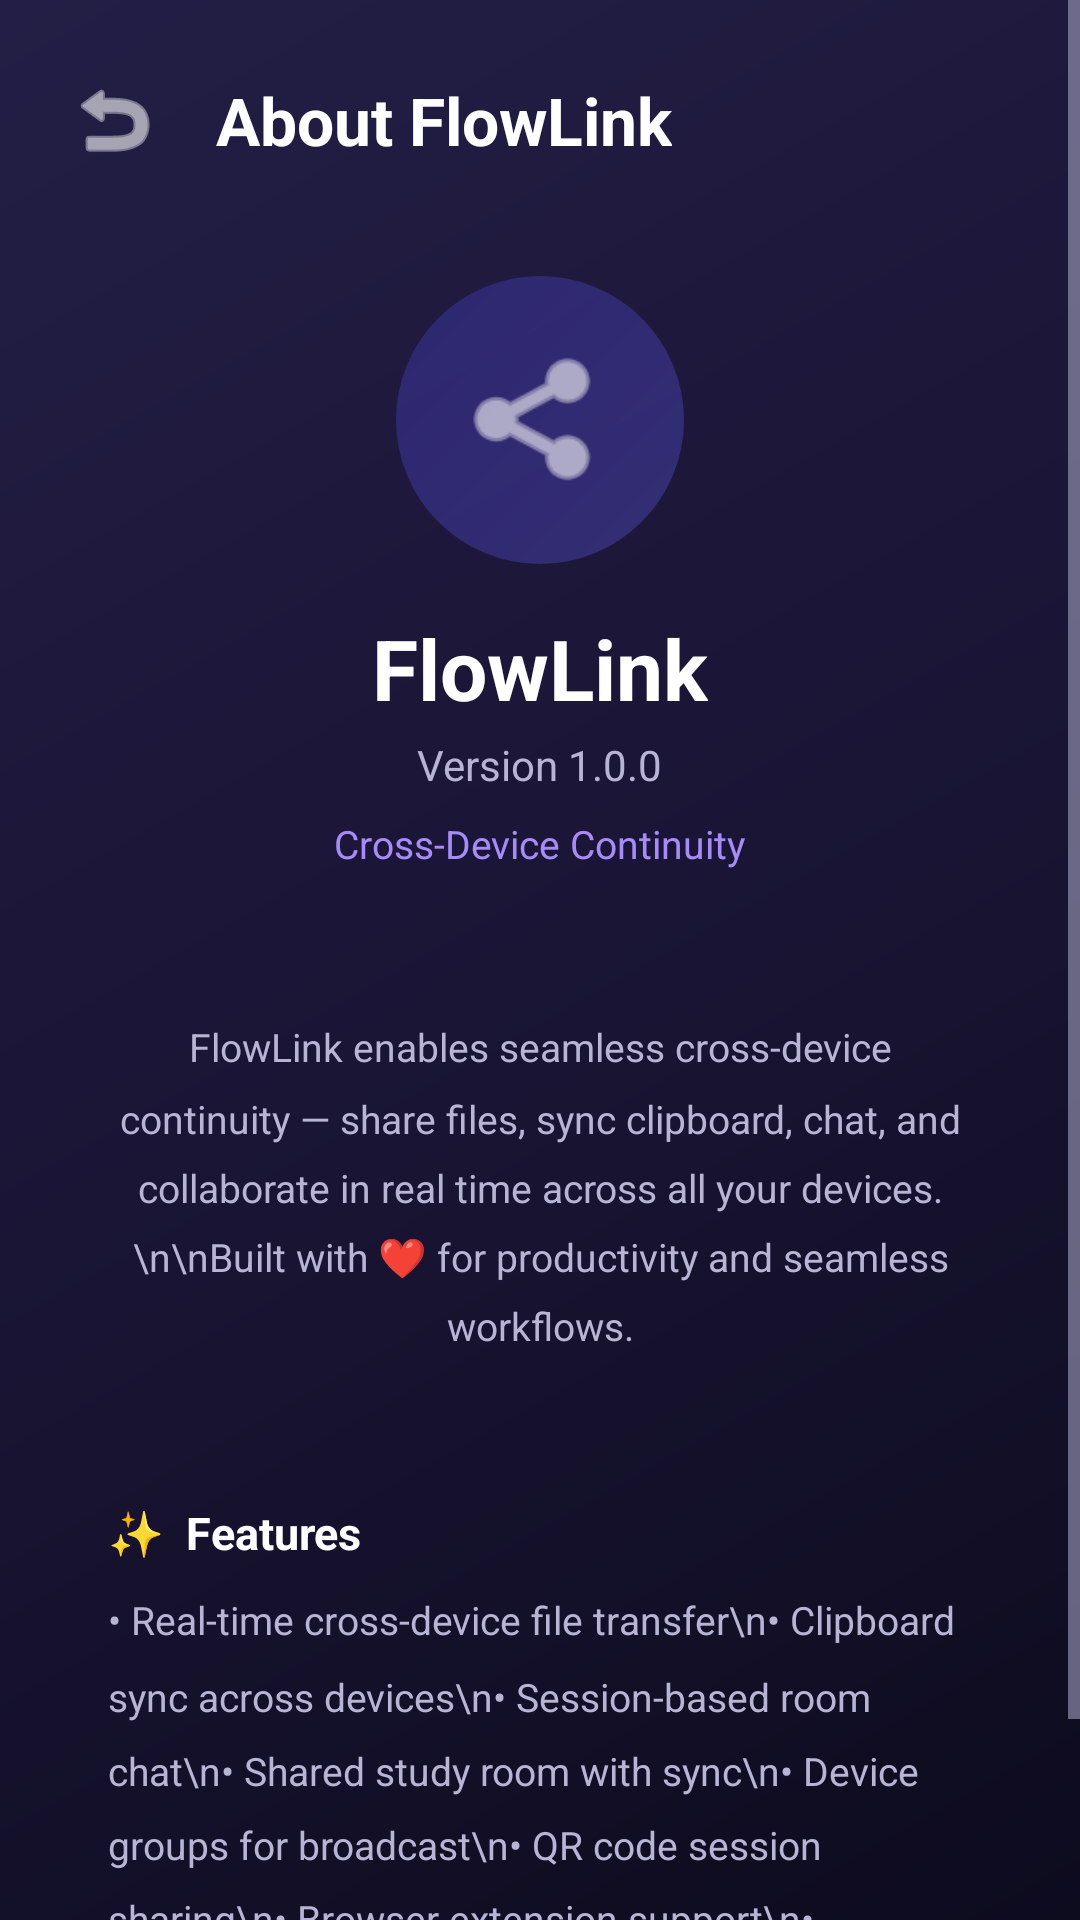

Icons on this 1080w x 1920h Android screen, each with the point to tap as point (x, y):
Back: point (115, 120)
share: point (531, 419)
